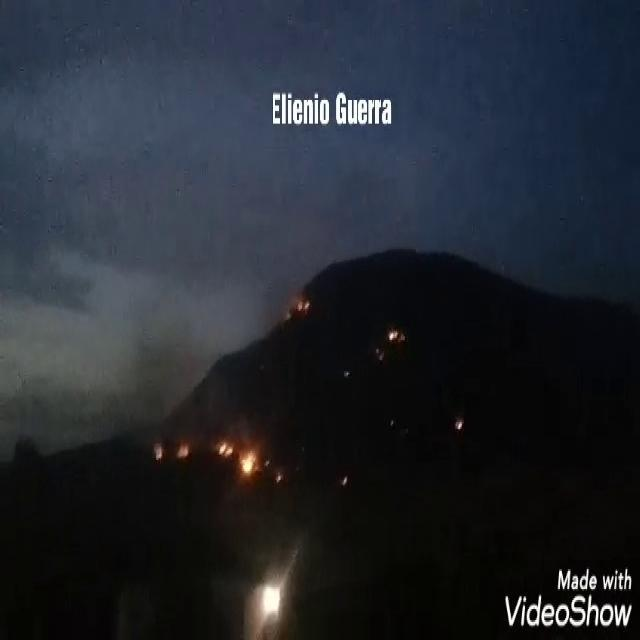Fire: (215, 433, 235, 458), (241, 446, 257, 470), (386, 325, 403, 342), (295, 292, 311, 310), (177, 438, 189, 455), (154, 440, 163, 458)
Smoke: (115, 312, 264, 460), (454, 414, 463, 430)
